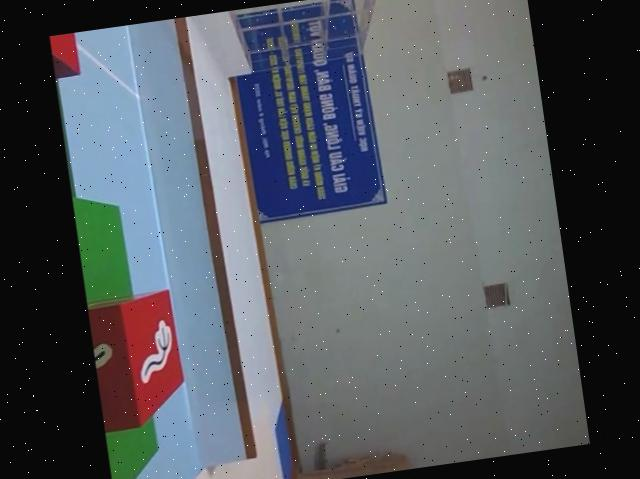R2 Real: (87, 290, 191, 435), (49, 32, 84, 81)
